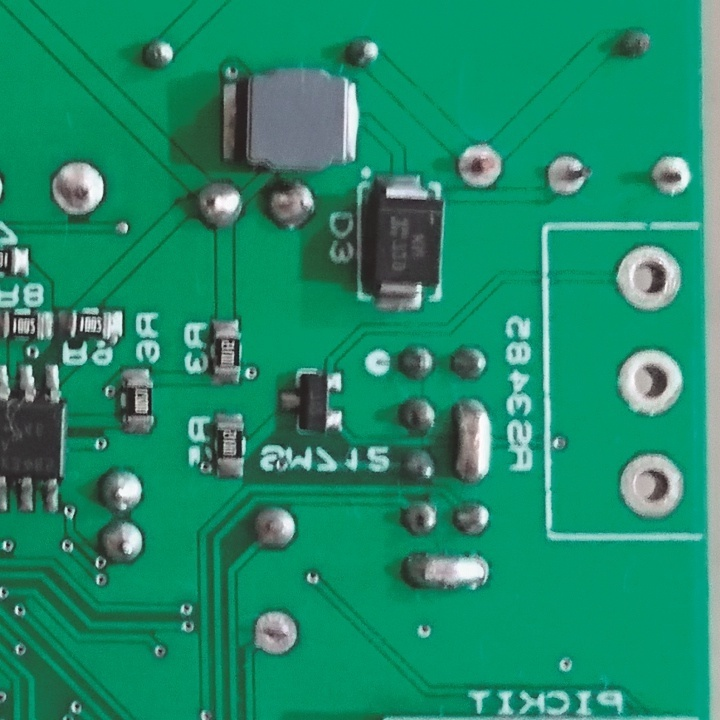F: (612, 241, 687, 315), (611, 345, 687, 416), (614, 449, 685, 524), (47, 159, 107, 217), (454, 142, 505, 191), (544, 151, 593, 200), (250, 609, 301, 655), (650, 152, 691, 198)
P: (450, 395, 495, 487), (400, 548, 495, 591)
